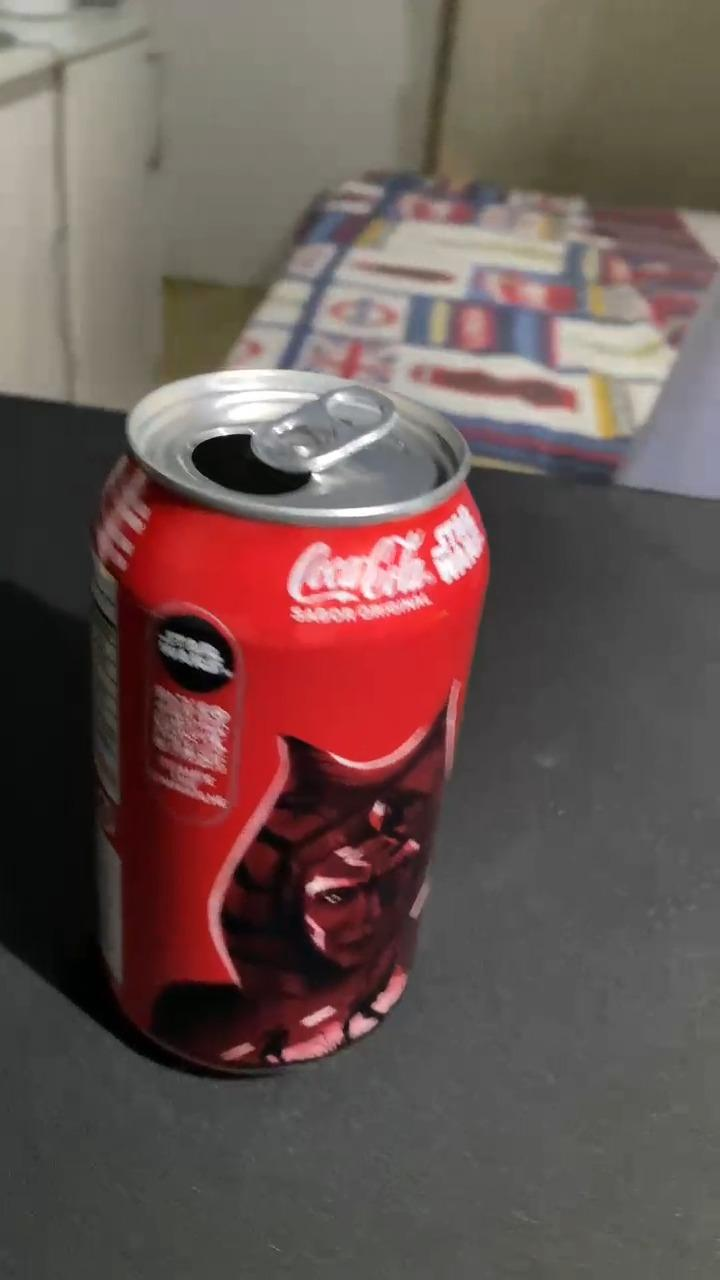coke: (96, 373, 489, 1072)
